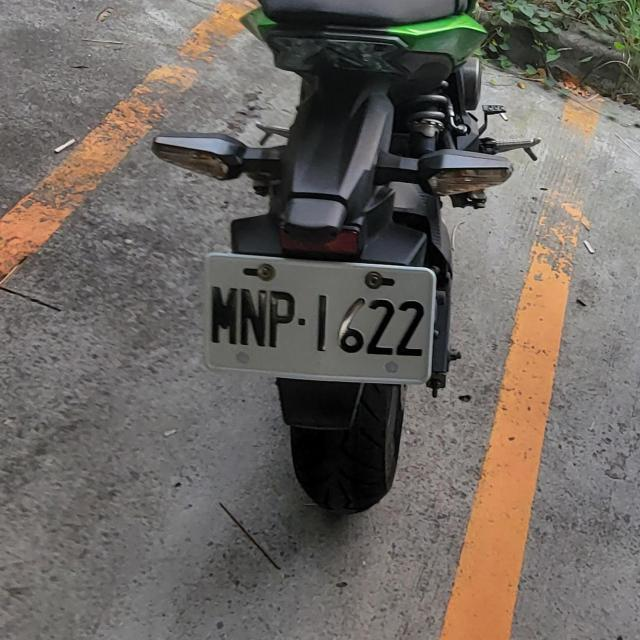W: (196, 251, 440, 385)
